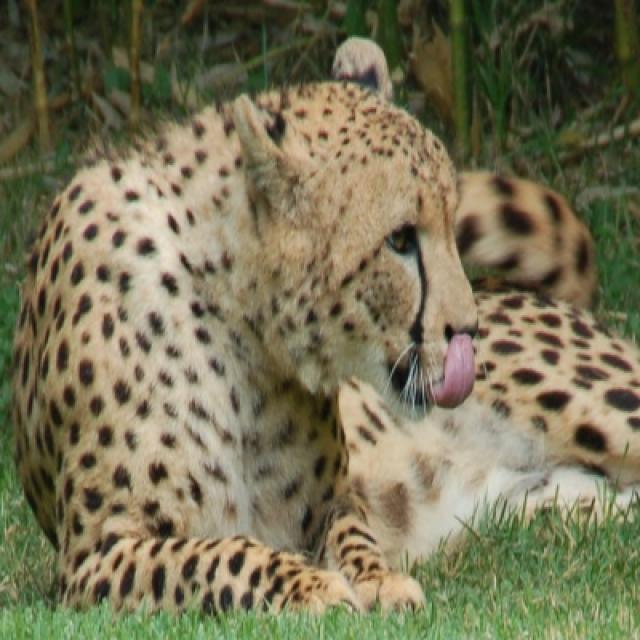Cheetah: (8, 42, 638, 619)
